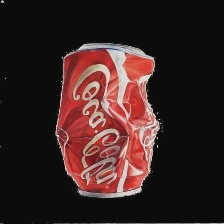can: (50, 33, 162, 199)
